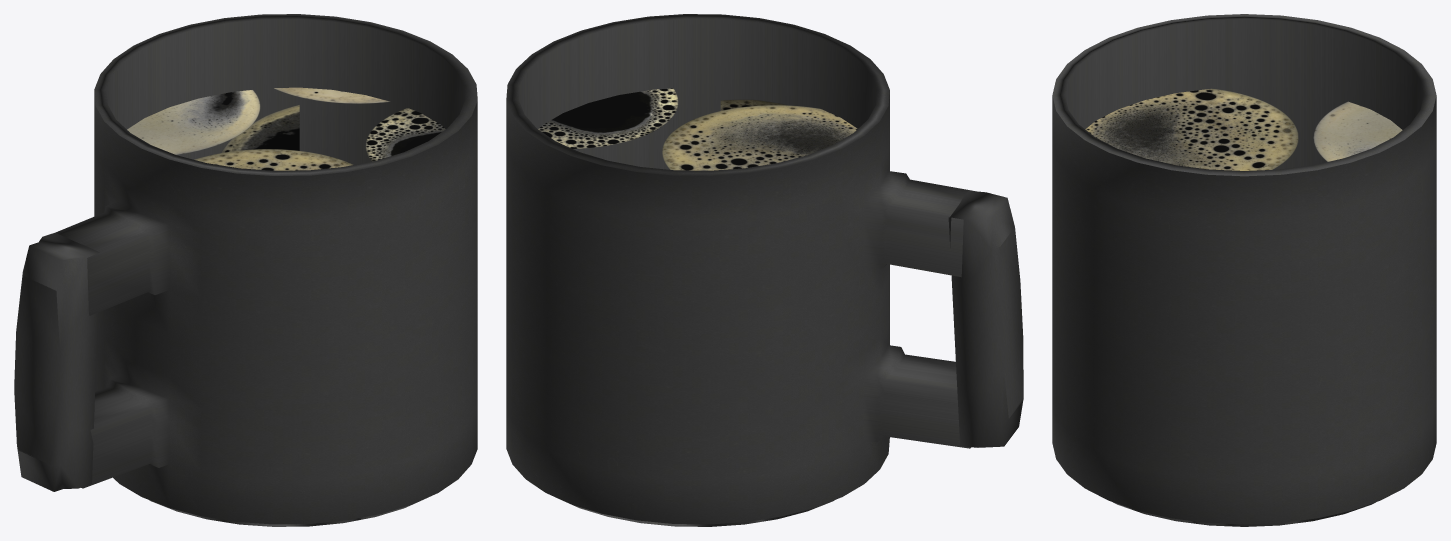
The model's file is coffemug.glb.
3 views of the same model, side by side, from view 1: azimuth 30°, elevation 25°; view 2: azimuth 150°, elevation 25°; view 3: azimuth 270°, elevation 25° (orthographic).
Parts seen in each view (by area): view 1: Cube, Cylinder; view 2: Cube, Cylinder; view 3: Cube, Cylinder.
Part boxes in pixels (left/top/right/bottom): Cube: left=14, top=14, right=477, bottom=526; Cylinder: left=127, top=87, right=445, bottom=170; Cube: left=506, top=14, right=1023, bottom=526; Cylinder: left=538, top=88, right=857, bottom=170; Cube: left=1052, top=14, right=1436, bottom=526; Cylinder: left=1085, top=88, right=1402, bottom=170.
Bounding box in the file's own units: 2.74 × 2.04 × 2.
Materials: 2 (2 with a texture image).
